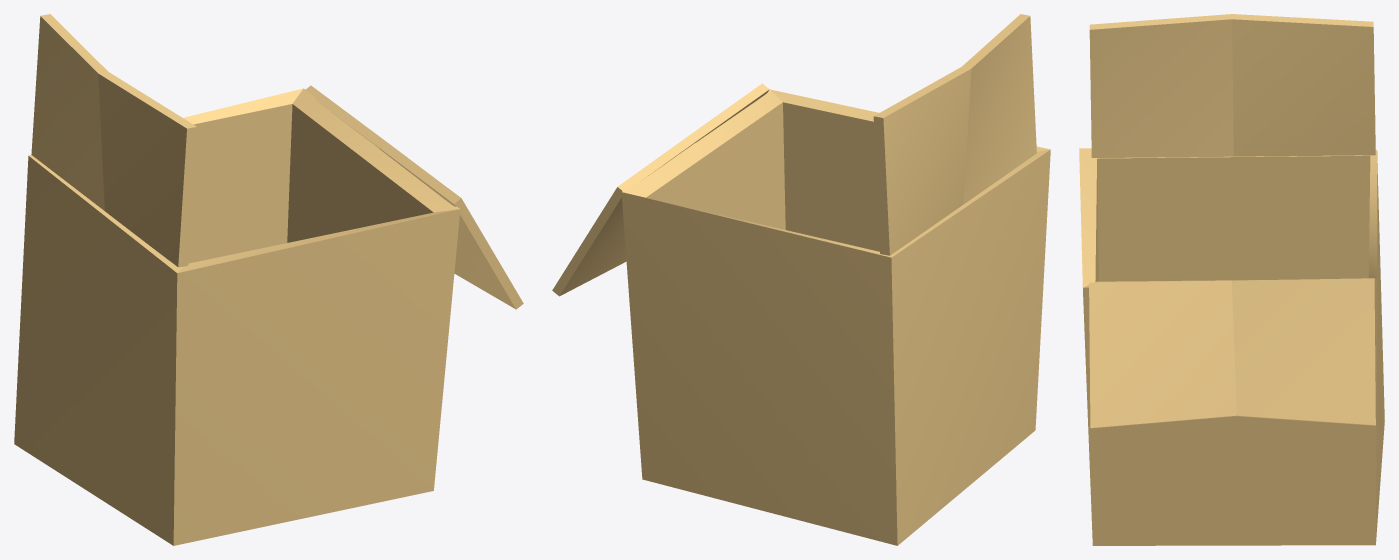
The model's file is Cardboard_Box_Open.glb.
3 views of the same model, side by side, from view 1: azimuth 30°, elevation 25°; view 2: azimuth 150°, elevation 25°; view 3: azimuth 270°, elevation 25° (orthographic). The views are drawn at different scales.
Visible parts, largest first — view 1: Box_Open; view 2: Box_Open; view 3: Box_Open.
Boxes of the visible parts, bbox=[...] form: Box_Open: bbox=[14, 14, 523, 545]; Box_Open: bbox=[552, 14, 1050, 545]; Box_Open: bbox=[1079, 14, 1384, 545].
Size of what is drawn, in the model's own units: 0.9157 by 1.05 by 0.7094.
Materials: 1 (1 with a texture image).
